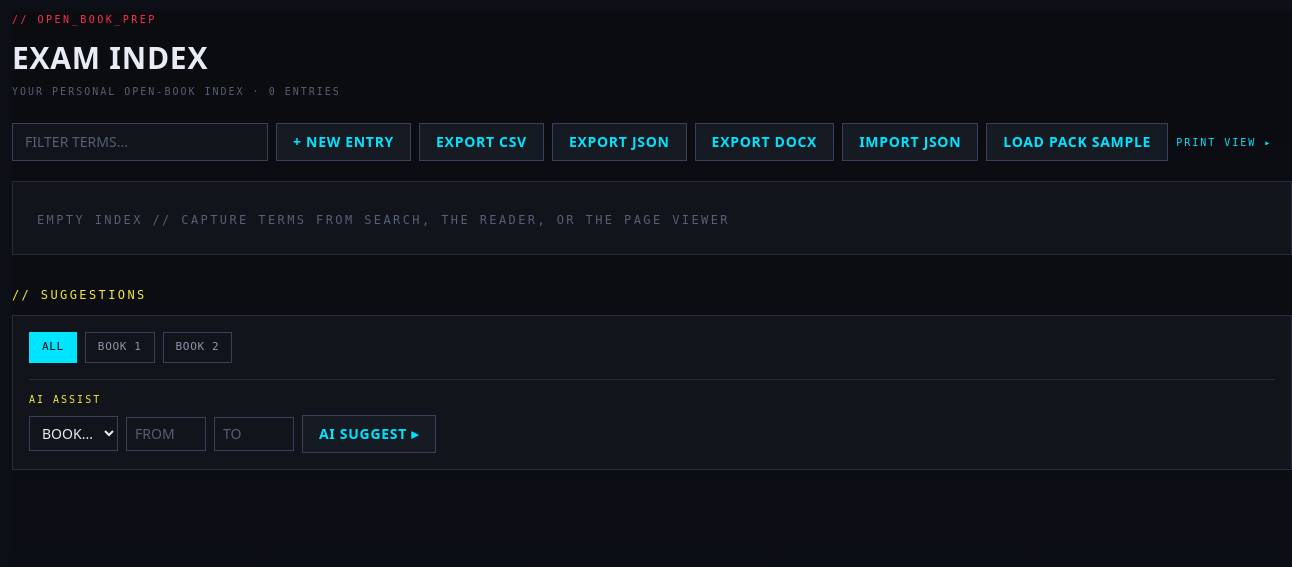
Test: load pack sample appears when the seed endpoint responds and imports on click
The image size is (1292, 567).
Click the button "LOAD PACK SAMPLE" at {"x": 1077, "y": 142}, box [986,123,1168,161]
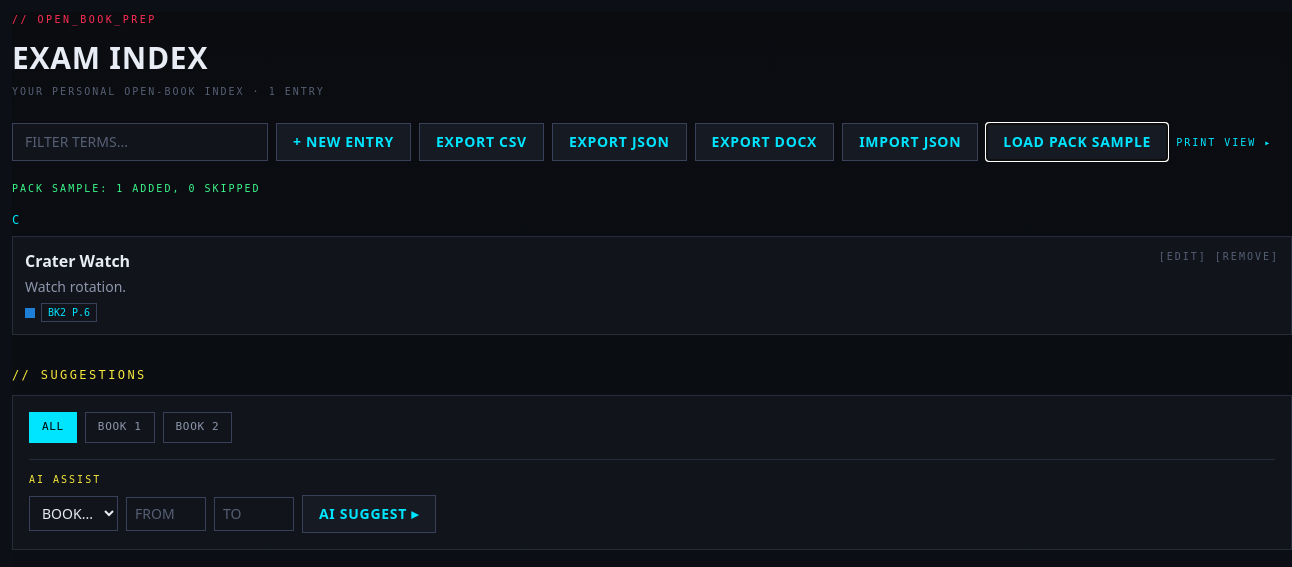
Expected: the text "PACK SAMPLE: 1 ADDED, 0 SKIPPED" is shown, [12,183,261,194]
